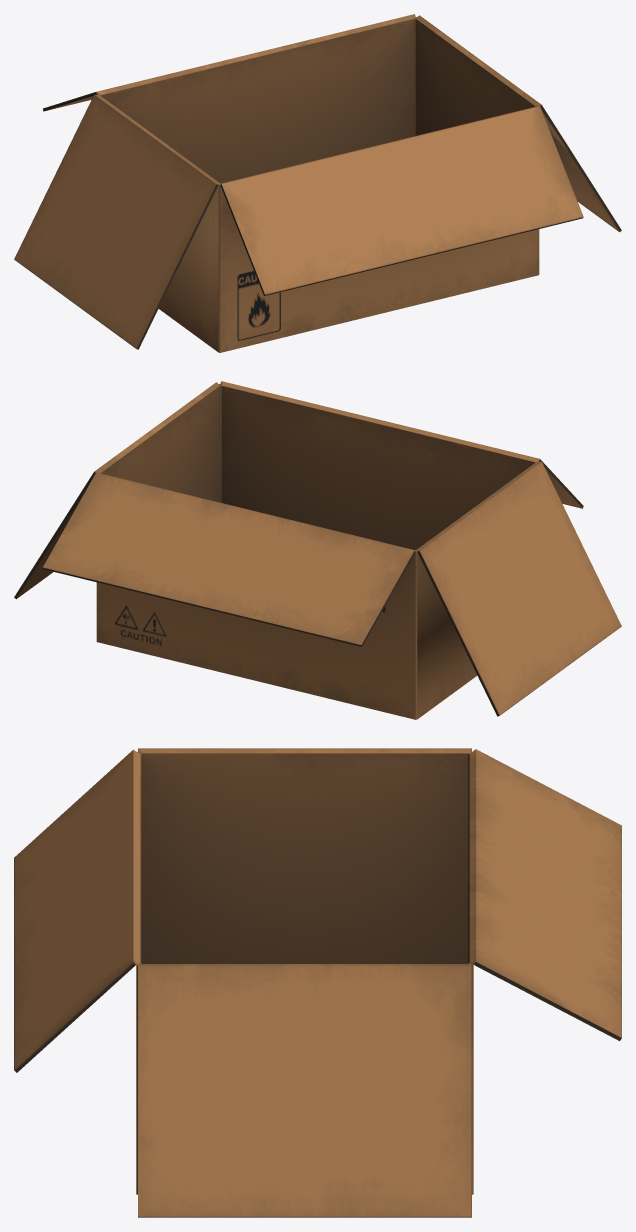
3 views of the same model, one above another, from view 1: azimuth 30°, elevation 25°; view 2: azimuth 150°, elevation 25°; view 3: azimuth 270°, elevation 25° (orthographic). The views are drawn at different scales.
Visible parts, largest first — view 1: Cardbox; view 2: Cardbox; view 3: Cardbox.
Part boxes in pixels (x1=…): Cardbox: x1=14, y1=14, x2=621, y2=352; Cardbox: x1=14, y1=381, x2=621, y2=719; Cardbox: x1=14, y1=748, x2=621, y2=1217.
Bounding box in the file's own units: 0.6687 × 0.224 × 0.5304.
1 material, 1 textured.
